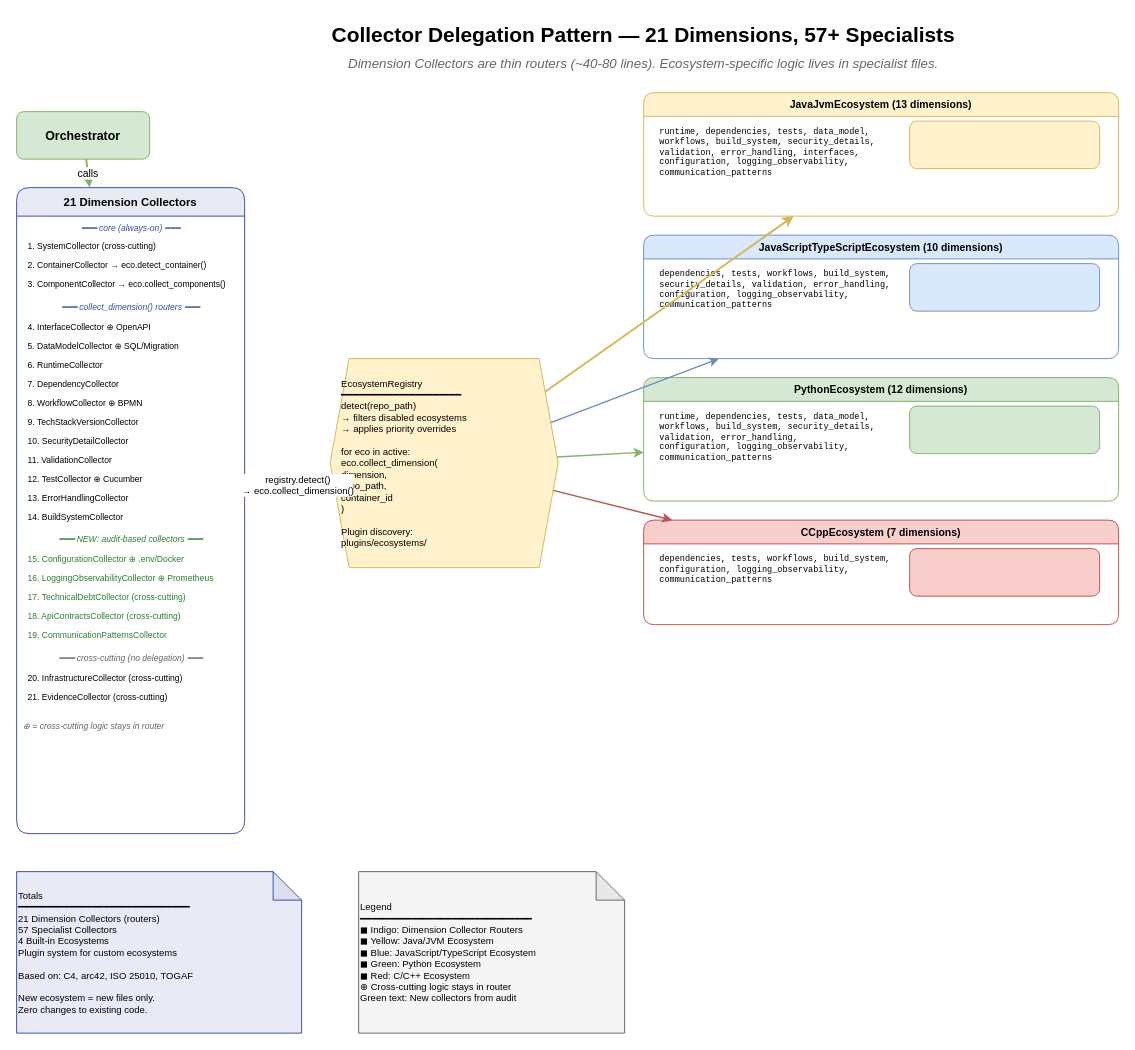
This 1135x1050 diagram has some shape labels left out. Here are the shapes that lost their labels. From the top down, the centre of each, then its label:
At [1004,144]: "spring/ ━━━━━━━━━━━━━━━ 18 specialist files".
At [1004,287]: "angular/ ━━━━━━━━━━━━━━━ 16 specialist files".
At [1004,429]: "python_eco/ ━━━━━━━━━━━━━━━ 14 specialist files".
At [1004,572]: "cpp/ ━━━━━━━━━━━━━━━ 9 specialist files".
